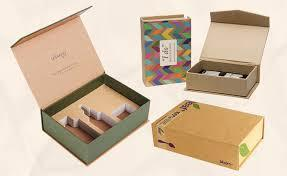box: (10, 6, 151, 166), (152, 100, 264, 171), (184, 10, 271, 99), (141, 14, 191, 88)
